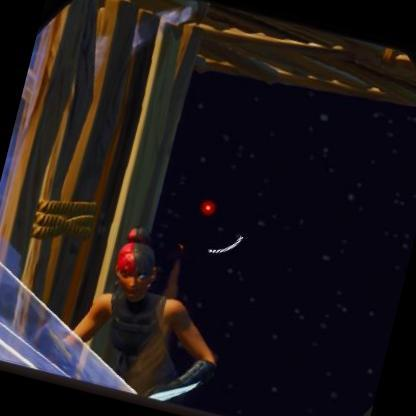person: (60, 221, 249, 415)
